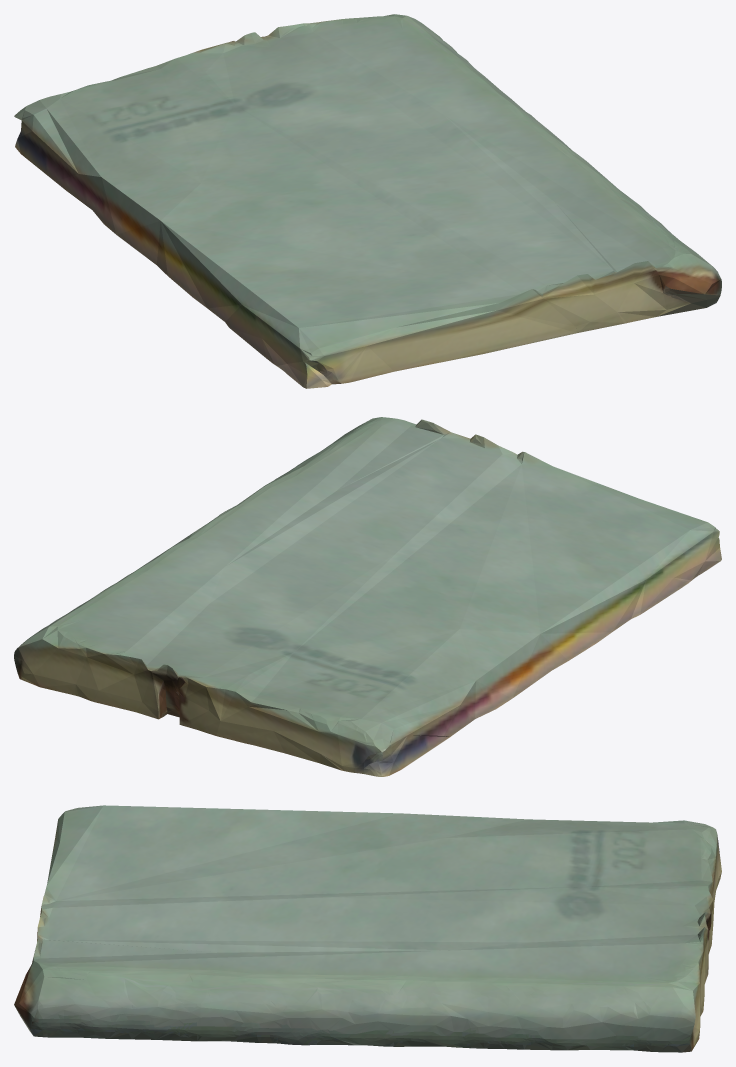
The model's file is Notebook.obj.
3 views of the same model, one above another, from view 1: azimuth 30°, elevation 25°; view 2: azimuth 150°, elevation 25°; view 3: azimuth 270°, elevation 25° (orthographic). The views are drawn at different scales.
Size of the model in its own units: 67.94 by 8.85 by 95.69.
Materials: 1 (1 with a texture image).
